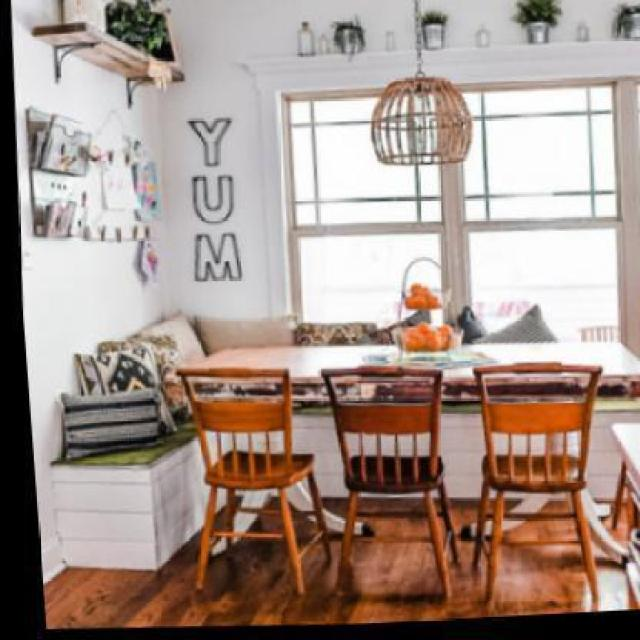tables: (174, 340, 638, 551)
